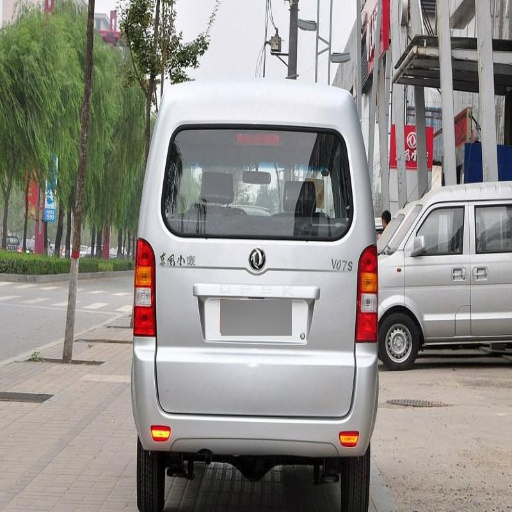back_bumper: (131, 344, 373, 460)
back_left_light: (132, 248, 154, 336)
back_right_door: (409, 249, 469, 336)
trunk: (137, 243, 363, 411)
